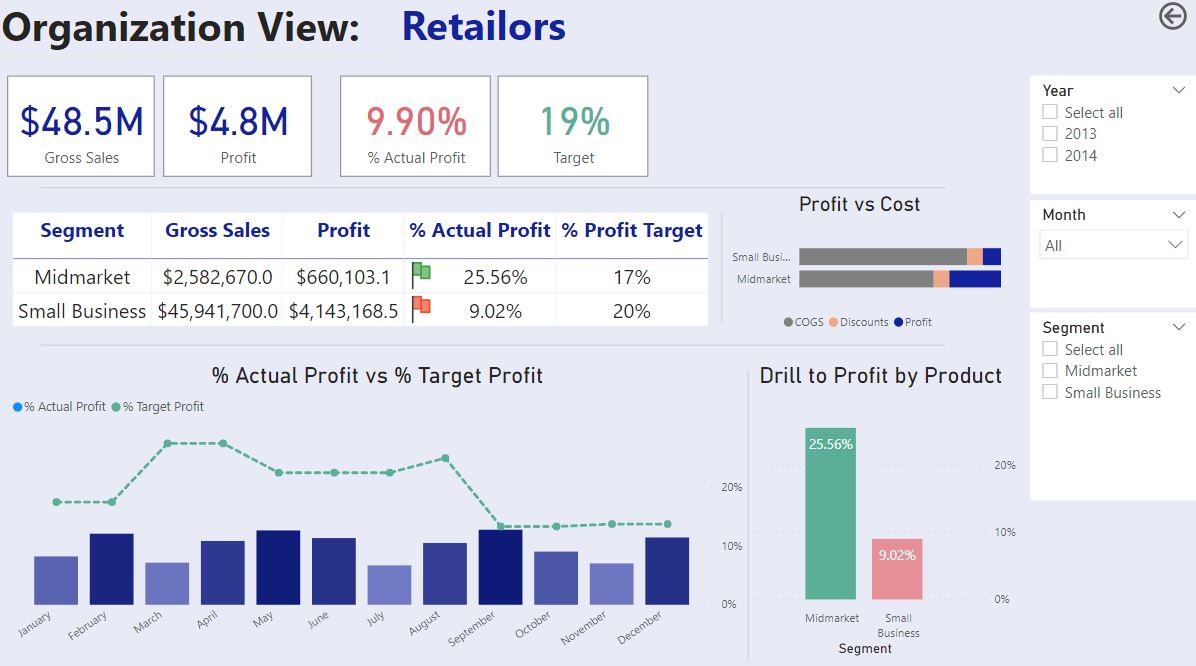

This screenshot's page, from the dashboard's own definition file:
{"tool":"powerbi","page":{"name":"Organization View","canvas":[1280,720],"ordinal":1},"visuals":[{"type":"lineClusteredColumnComboChart","title":"% Actual Profit vs % Target Profit","fields":{"Category":["Calendar.Month Name"],"Y":["Sales.%_Profit"],"Y2":["Avg(Profit Target.% Profit)"]},"box":[13.1,393.3,788.3,326.1],"z":0},{"type":"slicer","fields":{"Values":["Calendar.Year"]},"box":[1101.4,88.5,178.6,126.2],"z":1000},{"type":"slicer","fields":{"Values":["Calendar.Month Name"]},"box":[1101.4,220.2,178.6,114.7],"z":2000},{"type":"slicer","fields":{"Values":["Organizational Structure.Segment"]},"box":[1101.4,339.3,178.6,199.9],"z":3000},{"type":"card","fields":{"Values":["Sum(Sales.Profit)"]},"box":[178.6,88.5,159,108.2],"z":4000},{"type":"card","fields":{"Values":["Sum(Sales.Gross Sales)"]},"box":[13.1,88.5,157.3,108.2],"z":5000},{"type":"textbox","box":[2.1,0,413.4,68.9],"z":6000},{"type":"card","fields":{"Values":["Sales.%_Profit"]},"box":[367.1,88.5,160.6,108.2],"z":7000},{"type":"card","fields":{"Values":["Profit Target.%_Profit_AVG"]},"box":[534.3,88.5,160.6,108.2],"z":8000},{"type":"basicShape","box":[37.6,359.2,983.5,31.3],"z":9000},{"type":"basicShape","box":[37.7,191.8,983.4,31.1],"z":10000},{"type":"basicShape","box":[787.2,390.5,29.2,329.9],"z":11000},{"type":"basicShape","box":[760.1,223.4,27.1,137.8],"z":12000},{"type":"actionButton","box":[1234.1,4.9,45.9,39.3],"z":13000},{"type":"tableEx","fields":{"Values":["Organizational Structure.Segment","Sum(Sales.Gross Sales)","Sum(Sales.Profit)","Sales.%_Profit","Avg(Profit Target.% Profit)"]},"box":[13.1,227.8,752.3,147.5],"z":14000},{"type":"card","fields":{"Values":["Min(Organizational Structure.Organization)"]},"box":[396.7,0,244.3,64.7],"z":15000},{"type":"hundredPercentStackedBarChart","title":"Profit vs Cost","fields":{"Y":["Sum(Sales.COGS)","Sum(Sales.Discounts)","Sum(Sales.Profit)"],"Category":["Sales.Segment"]},"box":[764.2,213,311.1,156.6],"z":16000},{"type":"clusteredColumnChart","title":"Drill to Profit by Product","fields":{"Category":["Organizational Structure.Segment","Sales.Product"],"Y":["Sales.%_Profit"]},"box":[793.5,392.6,298.6,317.4],"z":17000}]}

Visuals, with their boxes in screenshot pixels (x1, y1, x2, y2), scaled from the page's 1280x720 canvas onto the 1196x666 screenshot:
"% Actual Profit vs % Target Profit" lineClusteredColumnComboChart: x1=12 y1=364 x2=749 y2=665
slicer - Calendar.Year: x1=1029 y1=82 x2=1195 y2=199
slicer - Calendar.Month Name: x1=1029 y1=204 x2=1195 y2=310
slicer - Organizational Structure.Segment: x1=1029 y1=314 x2=1195 y2=499
card - Sum(Sales.Profit): x1=167 y1=82 x2=315 y2=182
card - Sum(Sales.Gross Sales): x1=12 y1=82 x2=159 y2=182
textbox: x1=2 y1=0 x2=388 y2=64
card - Sales.%_Profit: x1=343 y1=82 x2=493 y2=182
card - Profit Target.%_Profit_AVG: x1=499 y1=82 x2=649 y2=182
basicShape: x1=35 y1=332 x2=954 y2=361
basicShape: x1=35 y1=177 x2=954 y2=206
basicShape: x1=736 y1=361 x2=763 y2=665
basicShape: x1=710 y1=207 x2=736 y2=334
actionButton: x1=1153 y1=5 x2=1195 y2=41
tableEx - Organizational Structure.Segment x Sum(Sales.Gross Sales): x1=12 y1=211 x2=715 y2=347
card - Min(Organizational Structure.Organization): x1=371 y1=0 x2=599 y2=60
"Profit vs Cost" hundredPercentStackedBarChart: x1=714 y1=197 x2=1005 y2=342
"Drill to Profit by Product" clusteredColumnChart: x1=741 y1=363 x2=1020 y2=657
